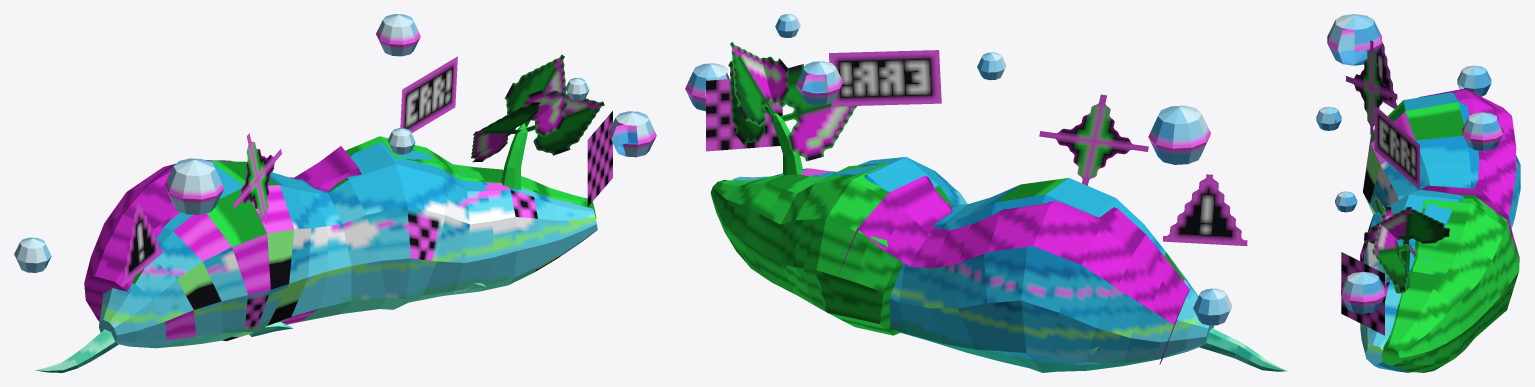
File: aero_yam_rot.obj
3 views of the same model, side by side, from view 1: azimuth 30°, elevation 25°; view 2: azimuth 150°, elevation 25°; view 3: azimuth 270°, elevation 25° (orthographic). The views are drawn at different scales.
Parts seen in each view (by area): view 1: body_5, body_2, body_6, ghost_m, body_1, body_3, body_4, body_7, body_8, body_0, err_text, bubble0 (+14 smaller); view 2: ghost_g, ghost_m, body_2, body_3, err_text, body_4, body_1, err_flare, leaf1, err_warn, bubble0, err_tile (+10 smaller); view 3: ghost_g, body_3, ghost_m, bubble0, err_text, body_4, leaf2, body_6, err_flare, bubble2, leaf0, err_tile (+10 smaller).
Boxes of the visible parts, x1=… form: body_5: x1=327, y1=142, x2=410, y2=313; body_2: x1=164, y1=160, x2=270, y2=343; body_6: x1=380, y1=142, x2=469, y2=309; ghost_m: x1=84, y1=146, x2=361, y2=321; body_1: x1=132, y1=227, x2=222, y2=348; body_3: x1=210, y1=160, x2=311, y2=331; body_4: x1=273, y1=172, x2=351, y2=324; body_7: x1=443, y1=172, x2=516, y2=295; body_8: x1=509, y1=187, x2=561, y2=284; body_0: x1=99, y1=283, x2=166, y2=348; err_text: x1=400, y1=56, x2=457, y2=132; bubble0: x1=164, y1=158, x2=224, y2=214; ghost_g: x1=710, y1=163, x2=903, y2=335; ghost_m: x1=837, y1=176, x2=1189, y2=364; body_2: x1=1021, y1=178, x2=1143, y2=372; body_3: x1=954, y1=178, x2=1067, y2=372; err_text: x1=829, y1=50, x2=941, y2=106; body_4: x1=899, y1=197, x2=998, y2=360; body_1: x1=1085, y1=224, x2=1186, y2=370; err_flare: x1=1039, y1=94, x2=1148, y2=185; leaf1: x1=780, y1=64, x2=856, y2=161; err_warn: x1=1163, y1=174, x2=1247, y2=246; bubble0: x1=1148, y1=105, x2=1210, y2=164; err_tile: x1=706, y1=79, x2=782, y2=151; ghost_g: x1=1381, y1=195, x2=1519, y2=372; body_3: x1=1363, y1=102, x2=1520, y2=215; ghost_m: x1=1418, y1=88, x2=1519, y2=261; bubble0: x1=1327, y1=14, x2=1381, y2=65; err_text: x1=1374, y1=105, x2=1419, y2=189; body_4: x1=1383, y1=164, x2=1515, y2=228; leaf2: x1=1364, y1=207, x2=1449, y2=245; body_6: x1=1360, y1=194, x2=1460, y2=267; err_flare: x1=1346, y1=40, x2=1397, y2=135; bubble2: x1=1341, y1=271, x2=1385, y2=313; leaf0: x1=1372, y1=206, x2=1408, y2=291; err_tile: x1=1341, y1=252, x2=1384, y2=335.
Bounding box in the file's own units: 36.97 × 15.11 × 11.97.
1 material, 1 textured.
